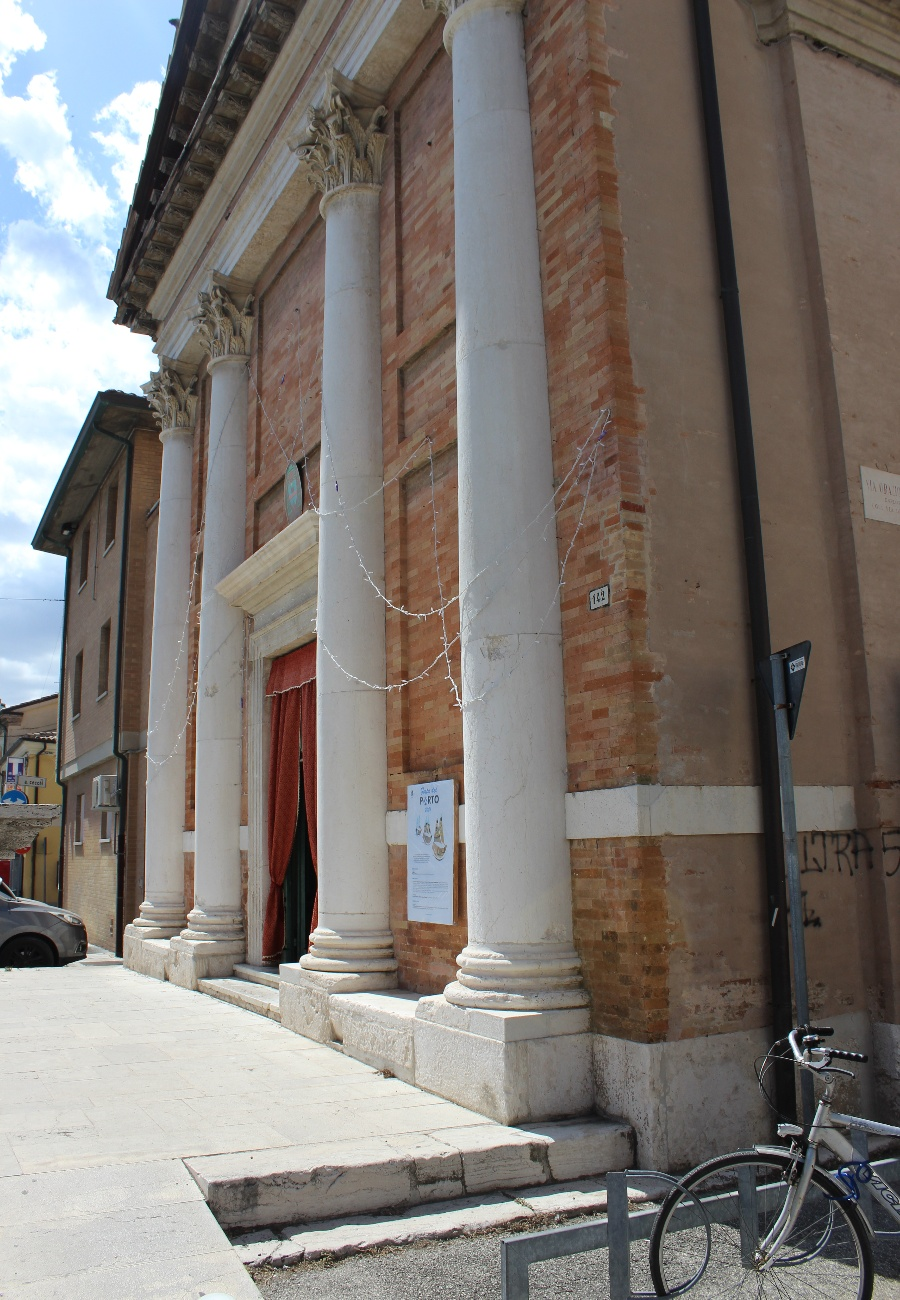Parrocchia Santa Maria: (121, 1, 653, 1122)
